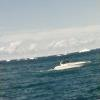Boat: (44, 56, 91, 74)
